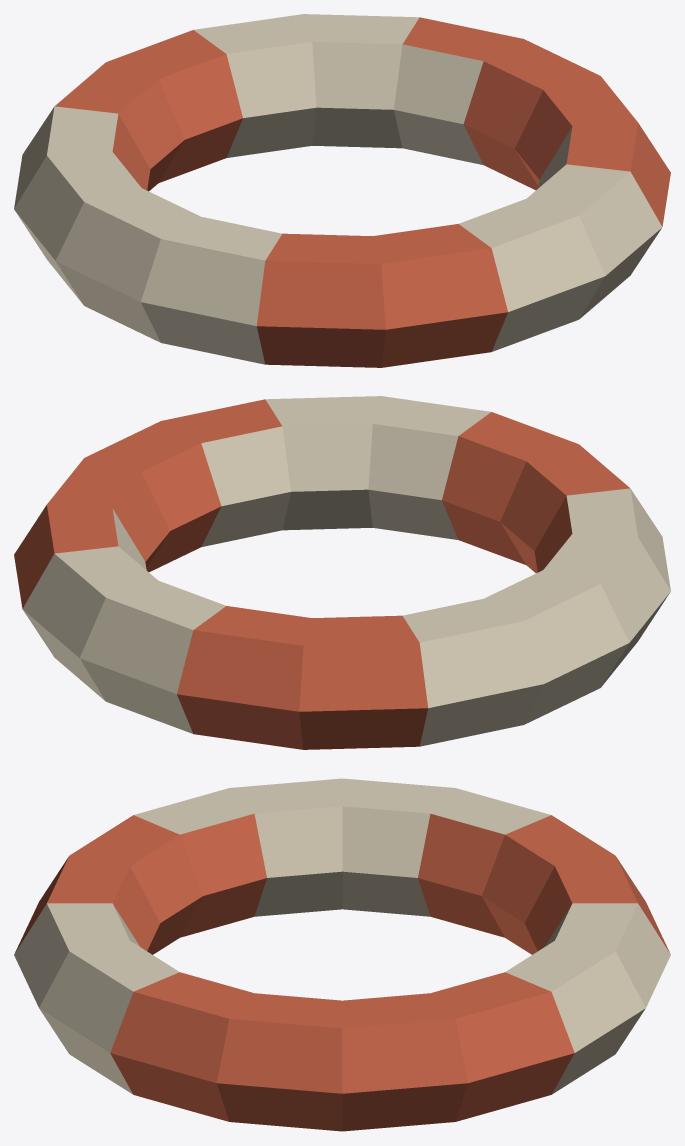
Rendered from swim_ring.glb.
The picture shows the model from 3 angles, top to bottom: view 1: azimuth 30°, elevation 25°; view 2: azimuth 150°, elevation 25°; view 3: azimuth 270°, elevation 25°; orthographic projection.
Parts seen in each view (by area): view 1: swim_ring_pc; view 2: swim_ring_pc; view 3: swim_ring_pc.
Part boxes in pixels (x1,y1,x2,y2): swim_ring_pc: [14, 14, 670, 367]; swim_ring_pc: [14, 396, 670, 749]; swim_ring_pc: [14, 778, 670, 1131].
Bounding box in the file's own units: 1.12 × 0.1949 × 1.12.
